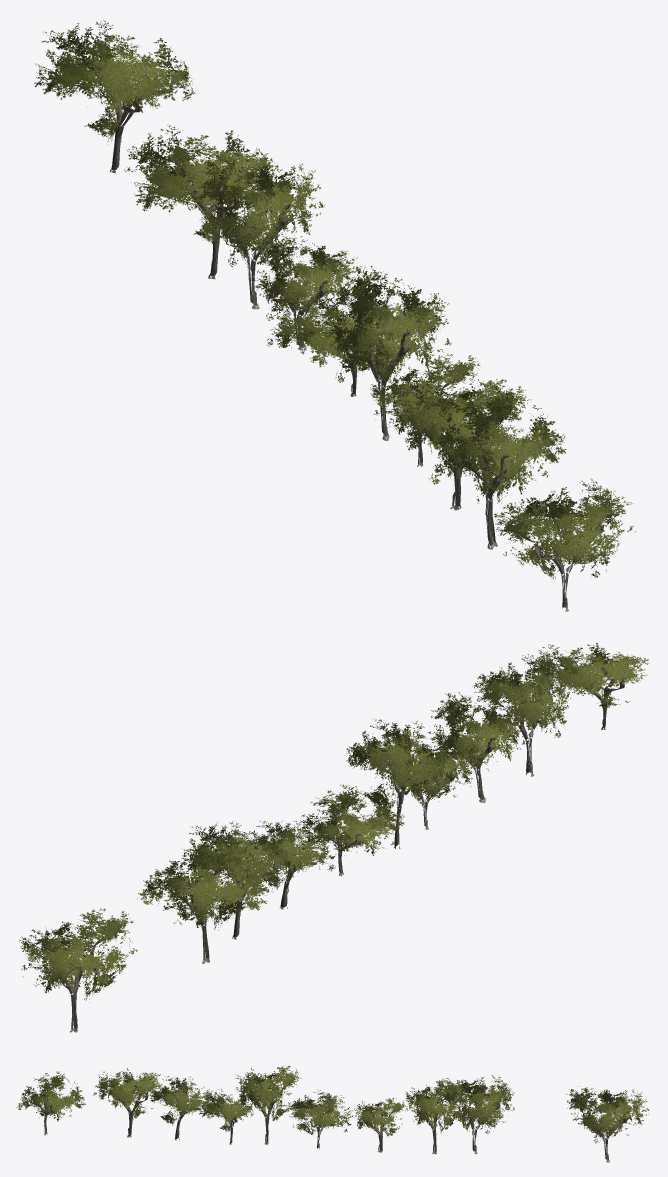
3 renders of one model, top to bottom at view 1: azimuth 30°, elevation 25°; view 2: azimuth 150°, elevation 25°; view 3: azimuth 270°, elevation 25°, orthographic. The views are drawn at different scales.
Visible parts, largest first — view 1: Island tree branch clusters, Island tree bark; view 2: Island tree branch clusters, Island tree bark; view 3: Island tree branch clusters, Island tree bark.
Boxes of the visible parts, x1,y1,x2,y2 form: Island tree branch clusters: (34,20,635,581); Island tree bark: (84,78,606,611); Island tree branch clusters: (19,643,648,1002); Island tree bark: (49,662,626,1032); Island tree branch clusters: (16,1065,649,1143); Island tree bark: (29,1084,629,1162).
Bounding box in the file's own units: 27.34 × 16.32 × 120.
Materials: 2 (2 with a texture image).
